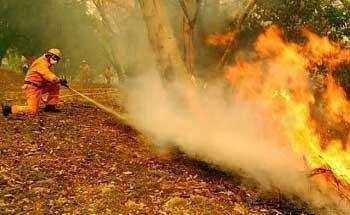fire: (220, 16, 349, 194)
